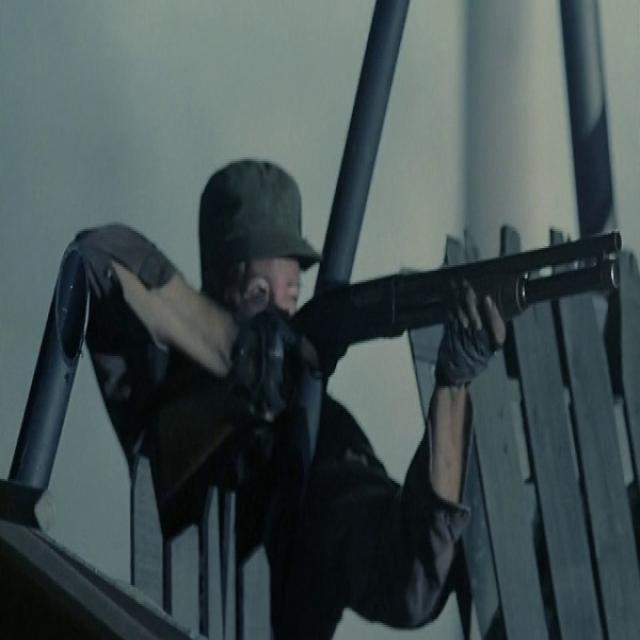rifle: (149, 224, 626, 507)
